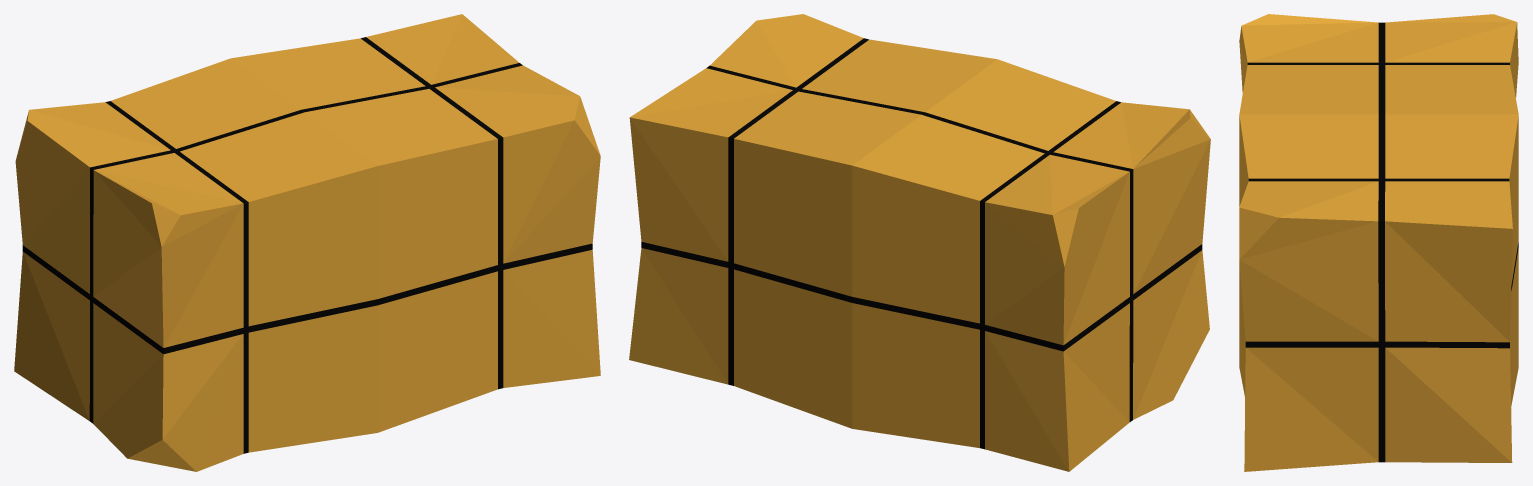
The model's file is hey.gltf.
The picture shows the model from 3 angles, left to right: view 1: azimuth 30°, elevation 25°; view 2: azimuth 150°, elevation 25°; view 3: azimuth 270°, elevation 25°; orthographic projection. The views are drawn at different scales.
Parts seen in each view (by area): view 1: Cube; view 2: Cube; view 3: Cube.
Boxes of the visible parts, left/top/right/bottom form: Cube: left=14, top=14, right=600, bottom=471; Cube: left=629, top=14, right=1210, bottom=471; Cube: left=1239, top=14, right=1518, bottom=471.
Size of the model in its own units: 5.3 by 3.05 by 3.02.
